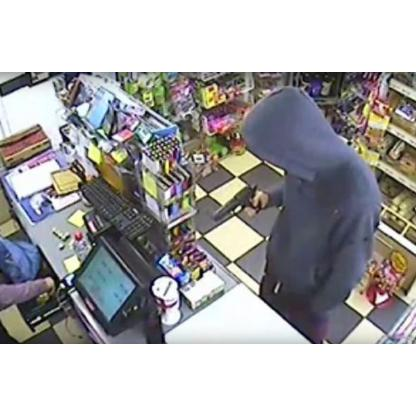gun: (212, 179, 265, 219)
